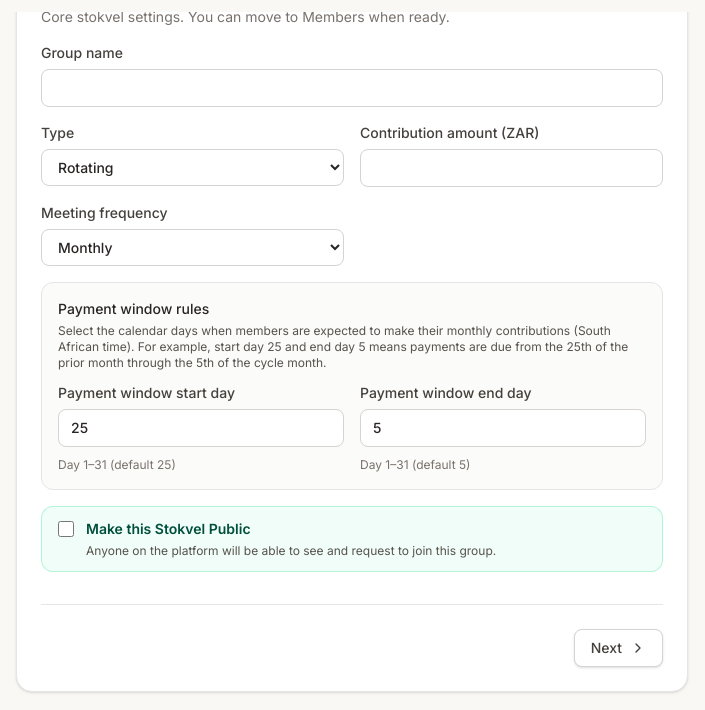
CreateStokvelWizard › Member Management (Admin Variant) › searches for members successfully
(page scrolled)
Click the button "Next". click: click(618, 648)
box: top-left (574, 629), bottom-right (663, 667)
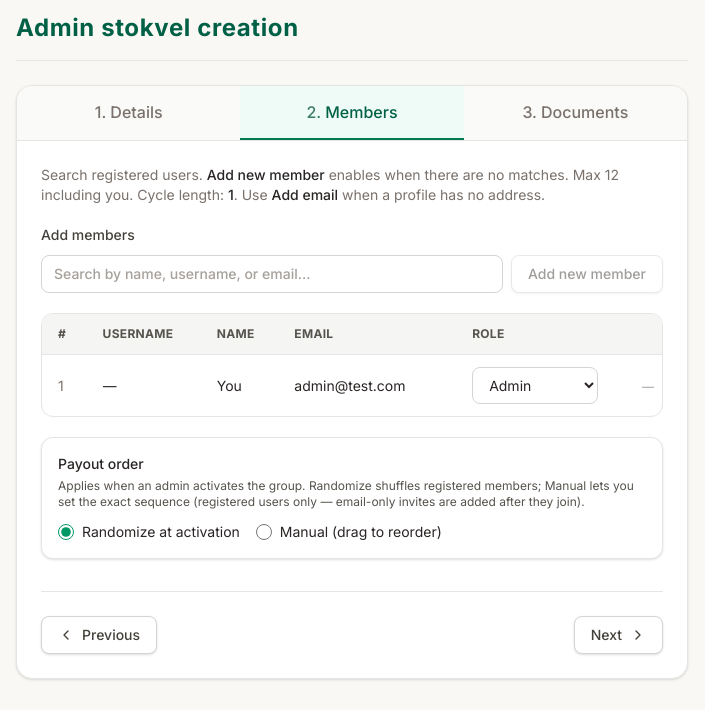
Type "john" into the field with placeholder "Search by name, username, or email…". click: (272, 274)
box: top-left (41, 255), bottom-right (503, 293)
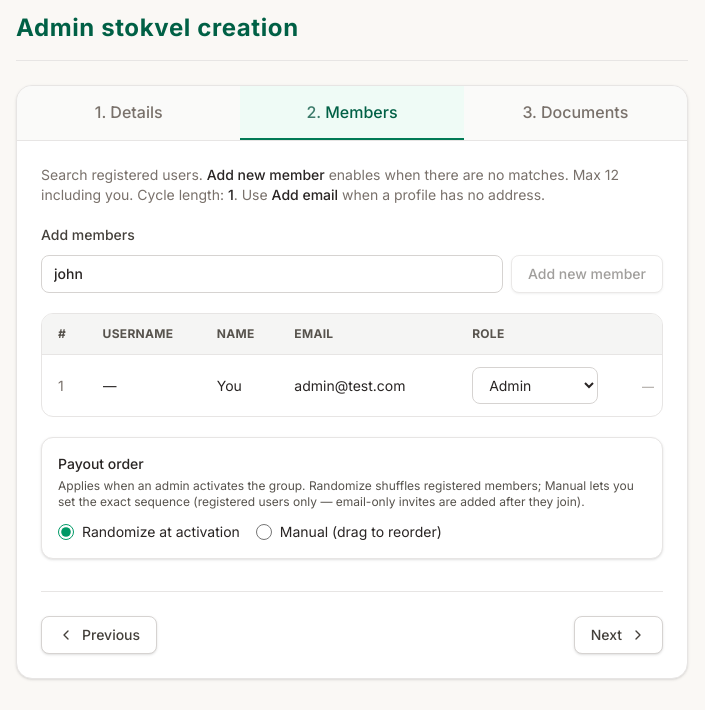
Focus the field with placeholder "Search by name, username, or email…". click: (272, 274)
box: top-left (41, 255), bottom-right (503, 293)
Wait 400 ms
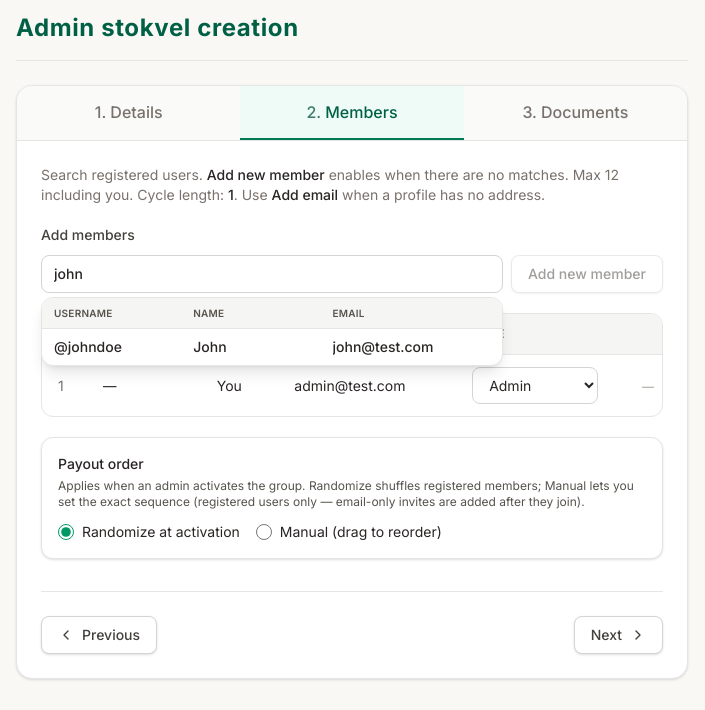
expect the text "@johndoe" is shown: met, box top-left (54, 338), bottom-right (122, 355)
